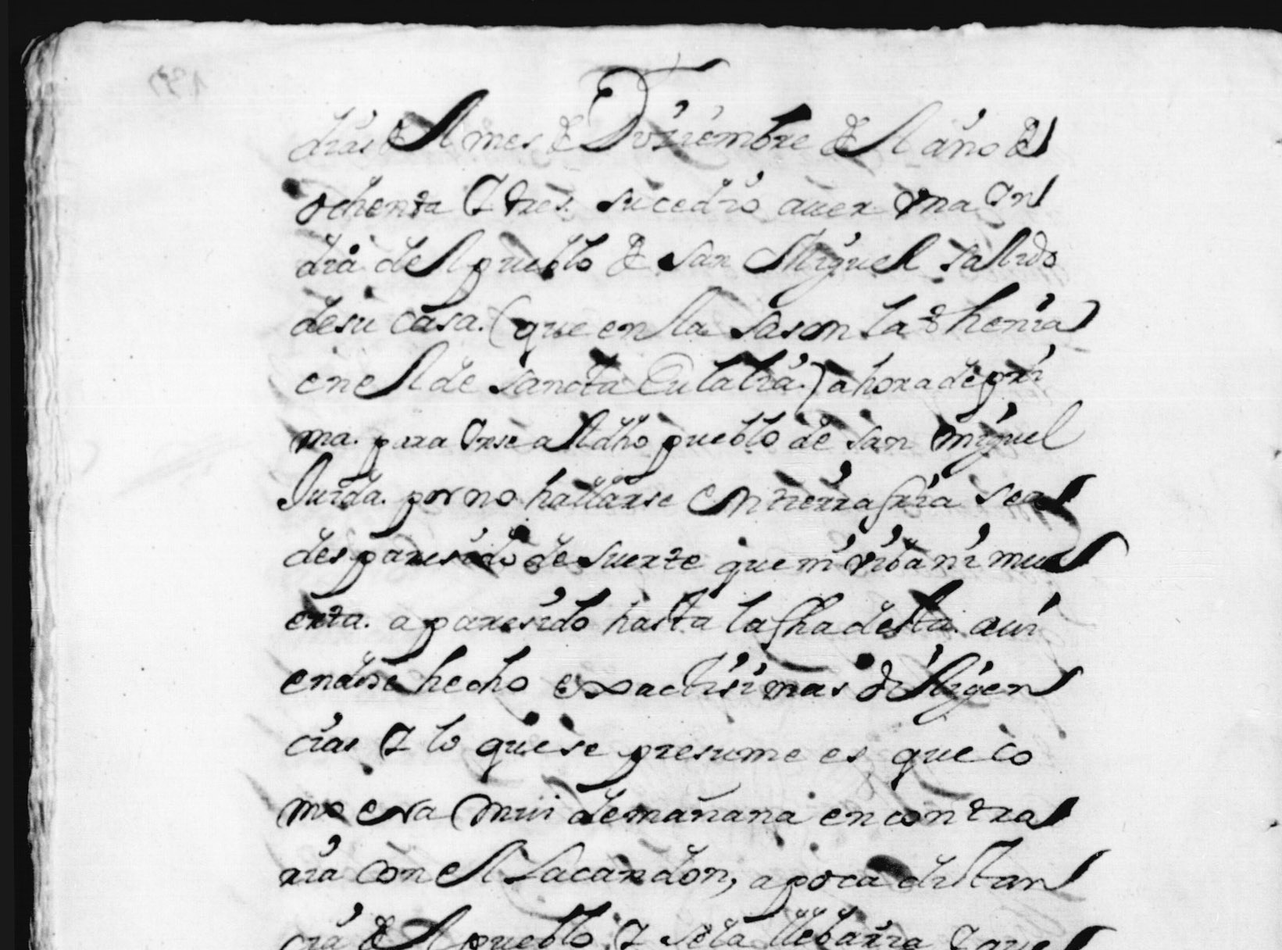lacandon: (503, 841, 727, 885)
